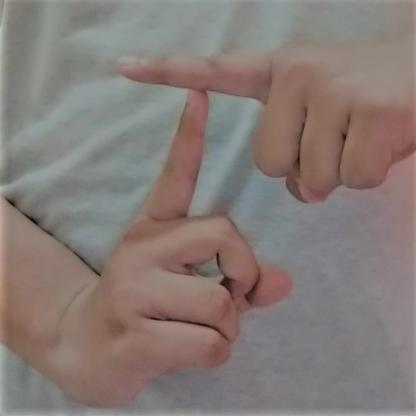T: (0, 44, 408, 413)
